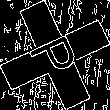P_NE: (24, 28, 86, 82)
